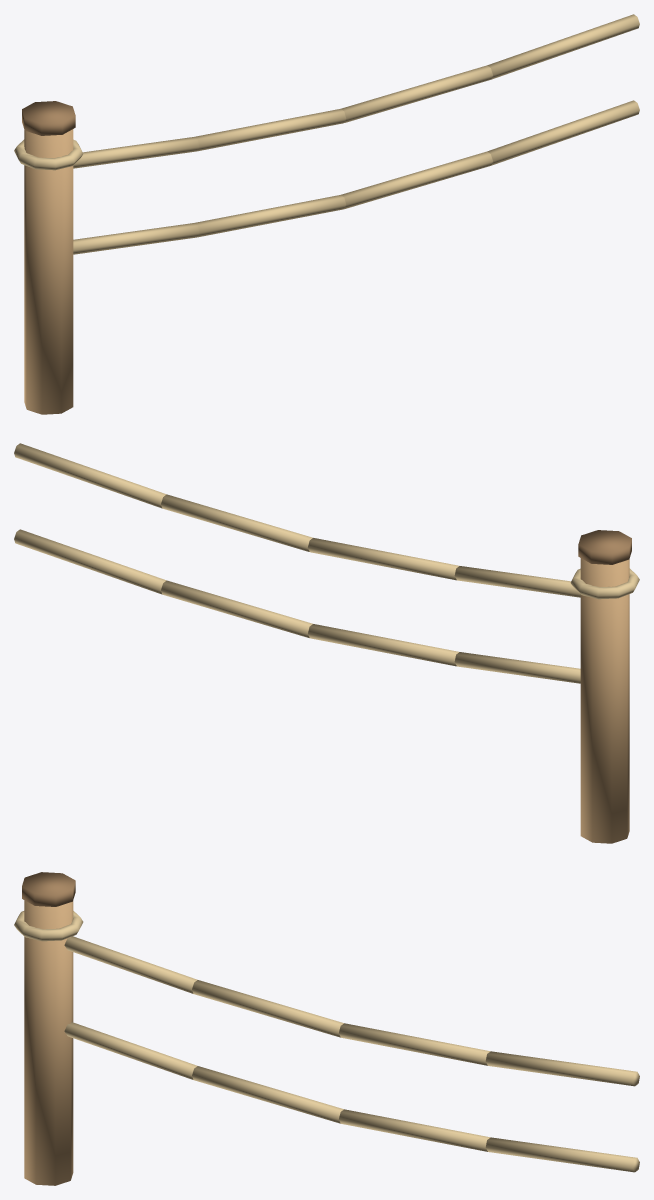
Rendered from cerca_corda_modulo.glb.
3 views of the same model, one above another, from view 1: azimuth 30°, elevation 25°; view 2: azimuth 150°, elevation 25°; view 3: azimuth 330°, elevation 25° (orthographic).
Parts seen in each view (by area): view 1: cerca_corda_modulo; view 2: cerca_corda_modulo; view 3: cerca_corda_modulo.
Boxes of the visible parts, x1,y1,x2,y2 form: cerca_corda_modulo: [14, 14, 639, 414]; cerca_corda_modulo: [14, 443, 639, 843]; cerca_corda_modulo: [14, 872, 639, 1185].
Size of the model in its own units: 2.1 by 0.95 by 0.1959.
